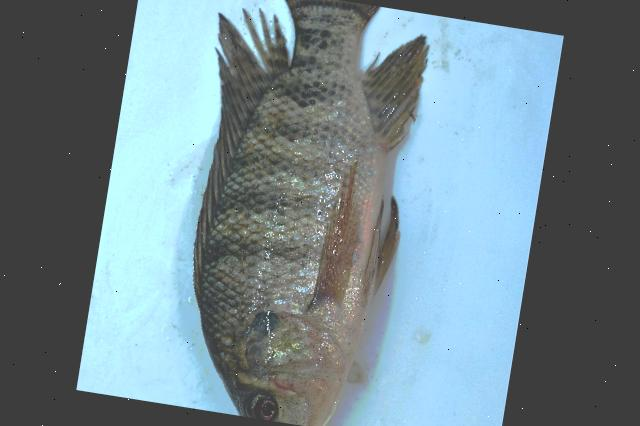Columnaris Disease: (194, 0, 428, 426)
